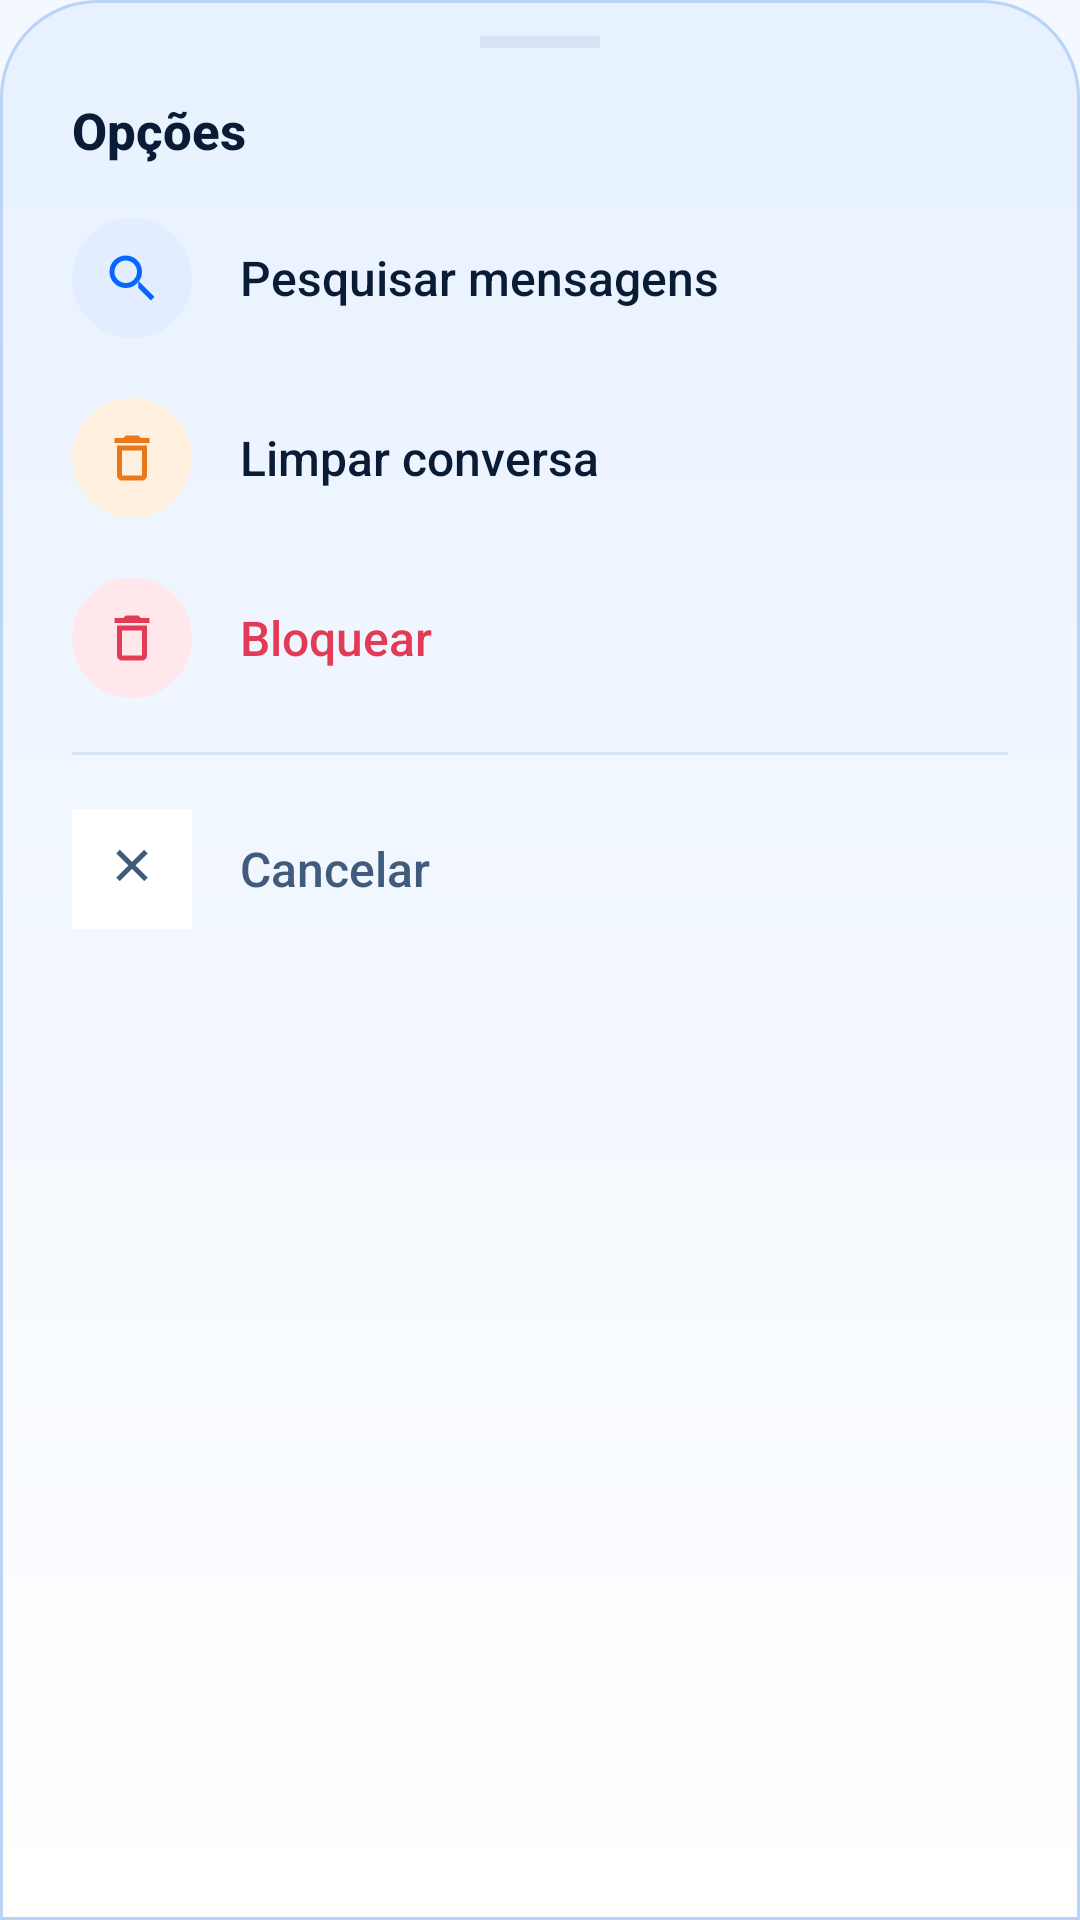

Where icons sit on this 1080w x 1920h app screen, as (x1, y1, x2, y2):
zen close: (116, 850, 148, 881)
zen delete: (114, 435, 150, 481), (114, 615, 150, 661)
zen search: (109, 255, 155, 301)
